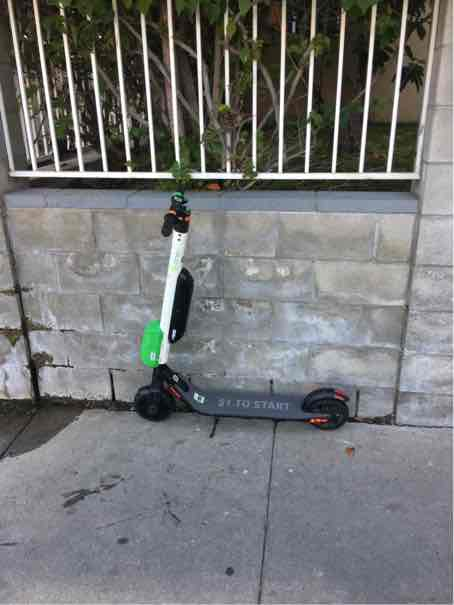scooter: (126, 164, 352, 435)
